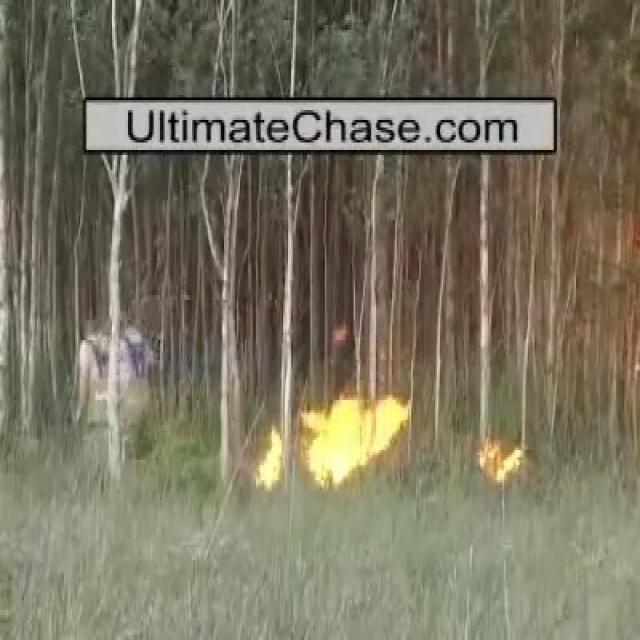fire: (296, 382, 417, 488), (479, 442, 523, 478), (258, 428, 281, 489)
